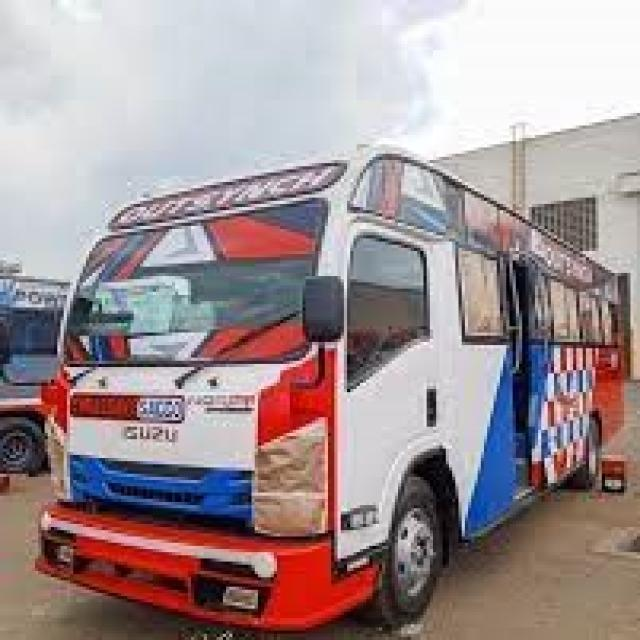bus: (5, 59, 639, 640)
